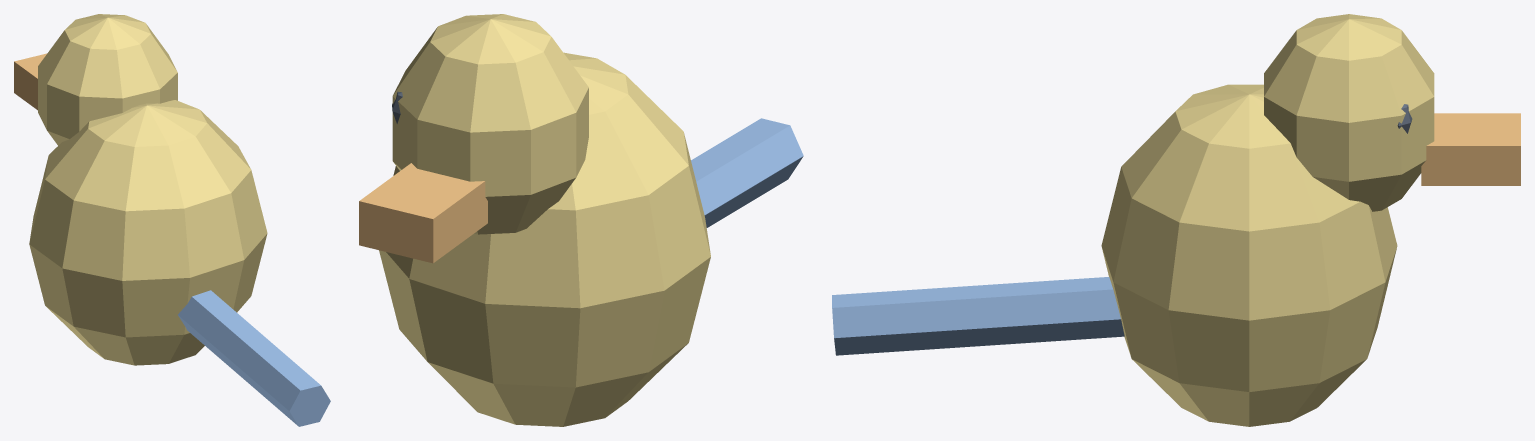
The model's file is loro_amarillo.glb.
The picture shows the model from 3 angles, left to right: view 1: azimuth 30°, elevation 25°; view 2: azimuth 150°, elevation 25°; view 3: azimuth 270°, elevation 25°; orthographic projection. The views are drawn at different scales.
Visible parts, largest first — view 1: loro_amarillo; view 2: loro_amarillo; view 3: loro_amarillo.
Boxes of the visible parts, x1,y1,x2,y2 form: loro_amarillo: (14,14,330,426); loro_amarillo: (359,14,803,426); loro_amarillo: (832,14,1520,426).
Size of the model in its own units: 0.5487 by 0.79 by 1.24.
